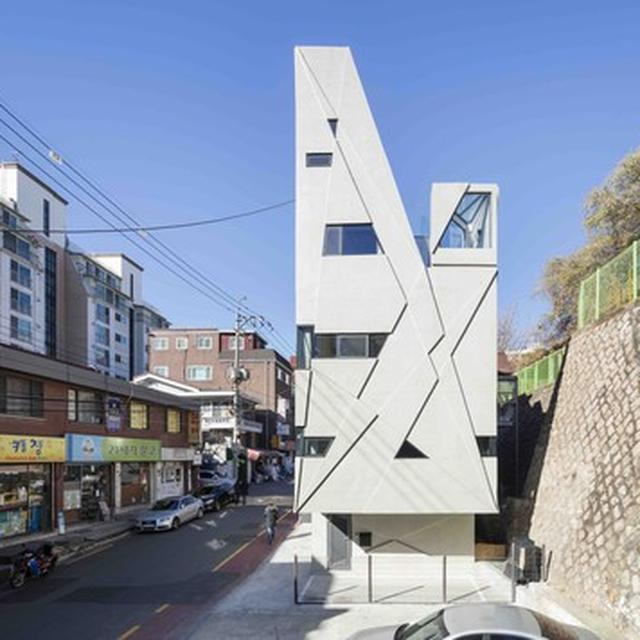building: (292, 43, 503, 570), (0, 158, 199, 527), (147, 310, 298, 480)
